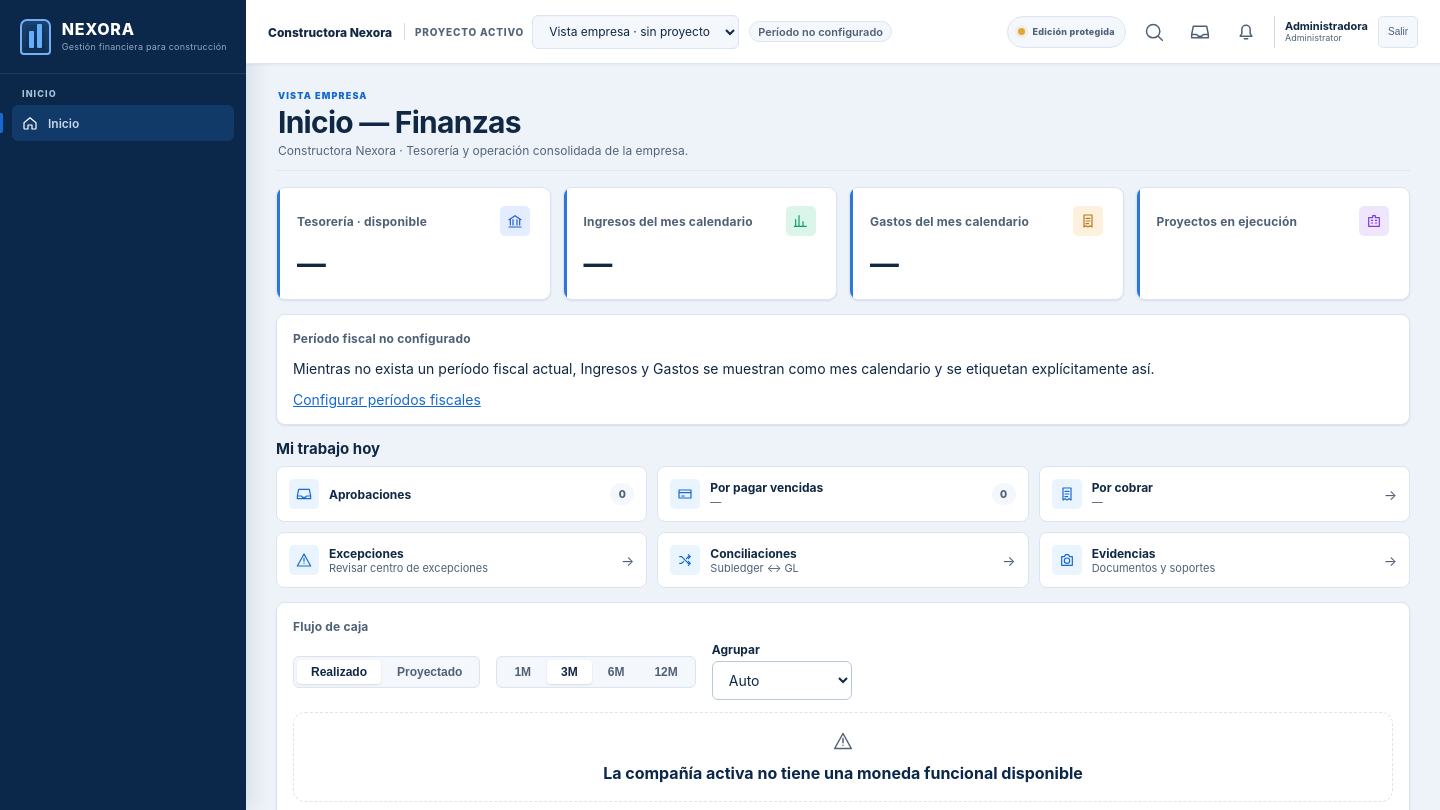
Test: AppLayout shell › opens the command palette from the topbar search button (not just the keyboard shortcut)
Expected: the heading "Inicio — Finanzas" is shown, [278,104,521,140]
Expected: the field with placeholder "ir a…" is not shown
What coordinates should you click on to do the following:
click the button named "búsqueda global"
I would click on:
 (1154, 32)
Its box is [1136,14,1172,50].
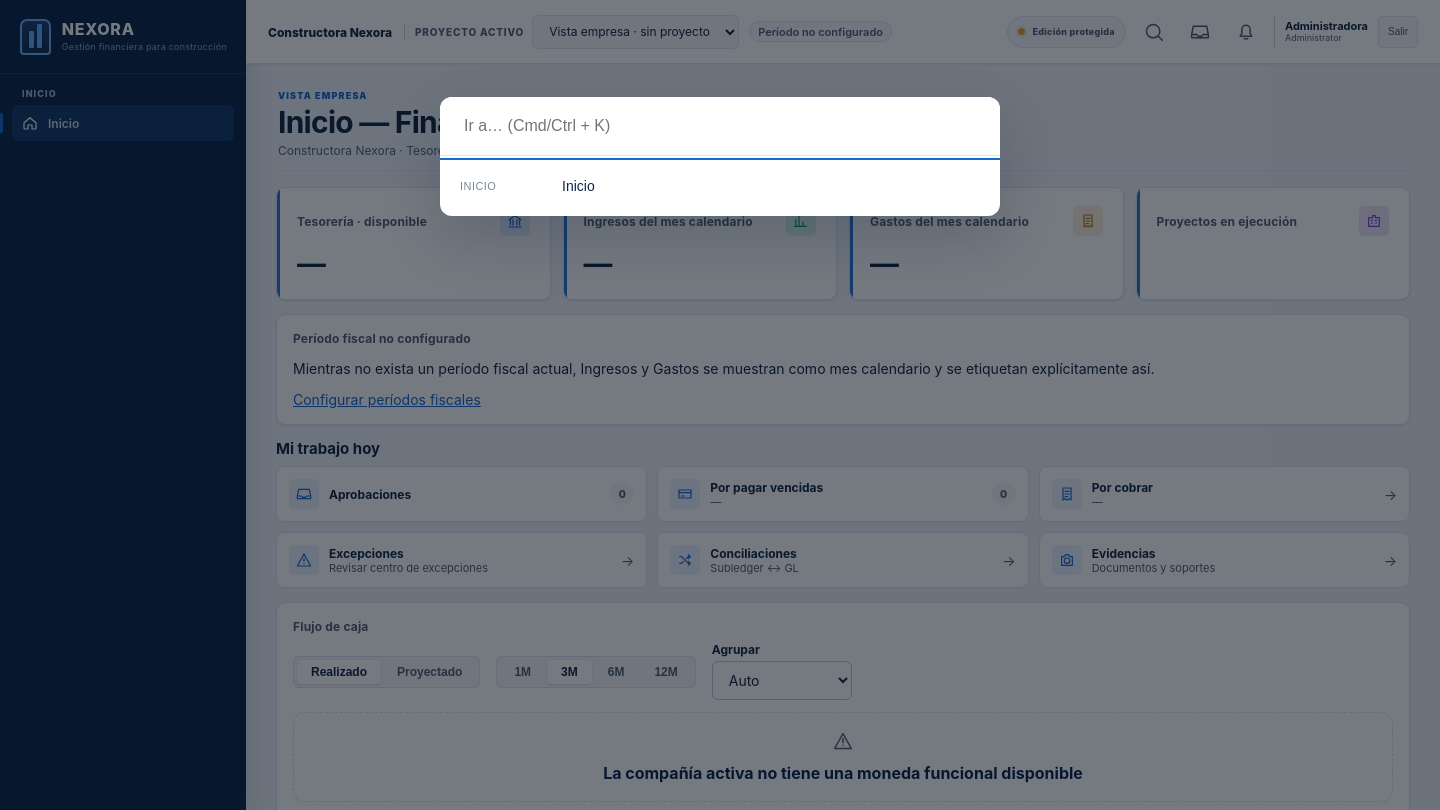
Expected: the field with placeholder "Ir a… (Cmd/Ctrl + K)" is shown, [440,97,1000,156]
